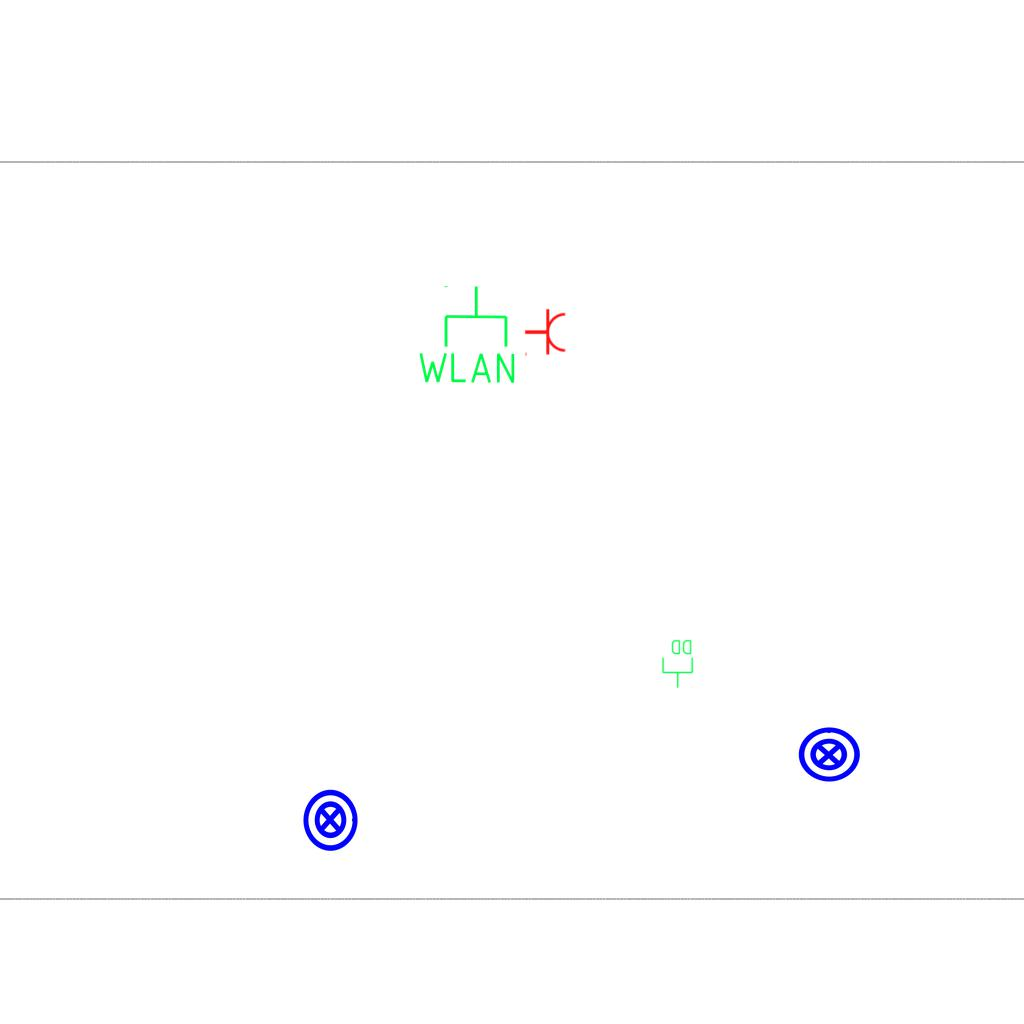Datenanschluss_zweifach: (661, 638, 695, 689)
Schukosteckdose_einfach: (524, 308, 567, 358)
Taster_beleuchtet: (796, 722, 862, 788), (297, 787, 363, 853)
WLAN: (414, 283, 519, 387)
